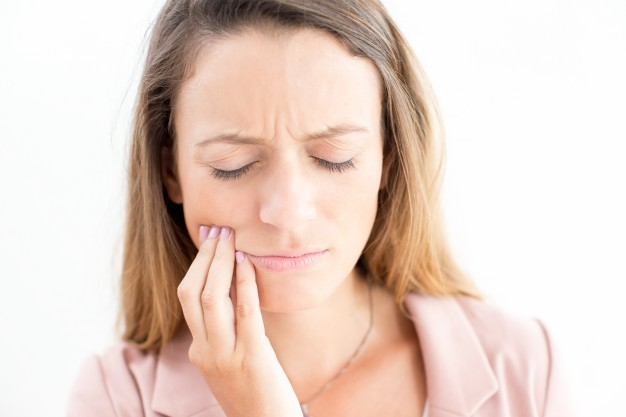sad: (158, 42, 410, 329)
